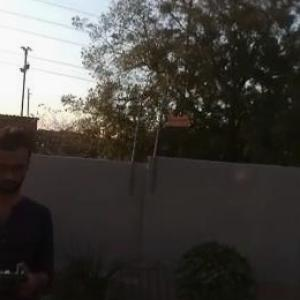follow: (0, 121, 63, 299)
